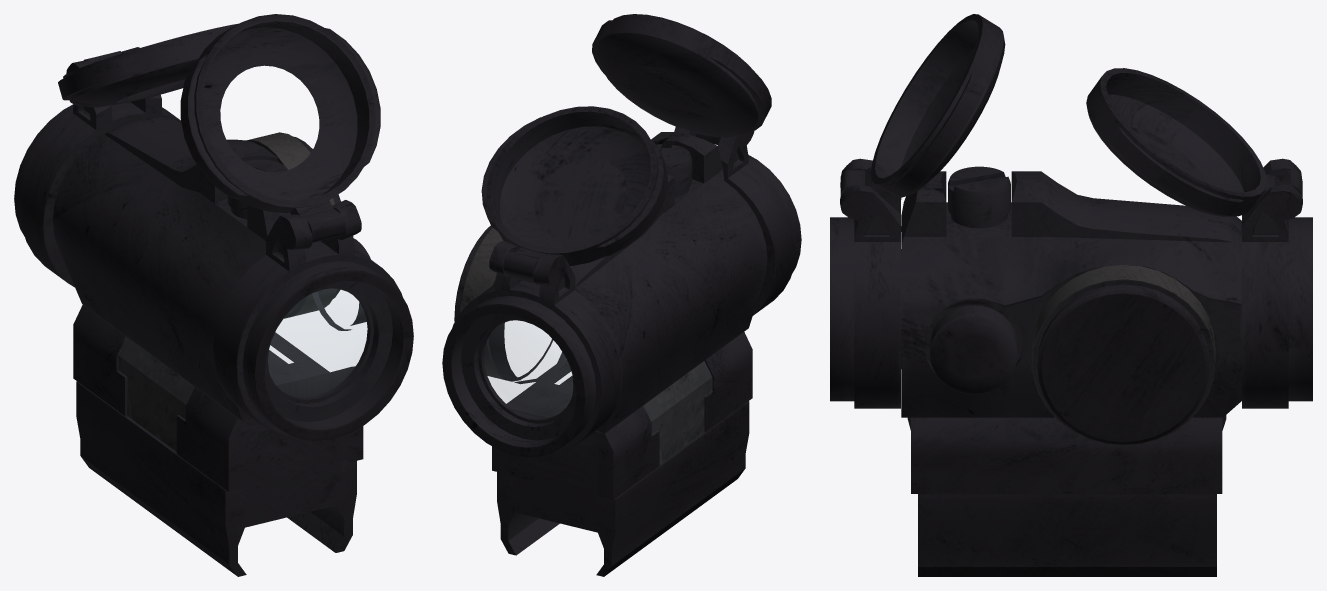
Rendered from sight_dot.glb.
3 renders of one model, left to right at view 1: azimuth 30°, elevation 25°; view 2: azimuth 150°, elevation 25°; view 3: azimuth 270°, elevation 25°, orthographic. The views are drawn at different scales.
Bounding box in the file's own units: 0.0361 × 0.0852 × 0.0709.
Materials: 2 (1 with a texture image).
